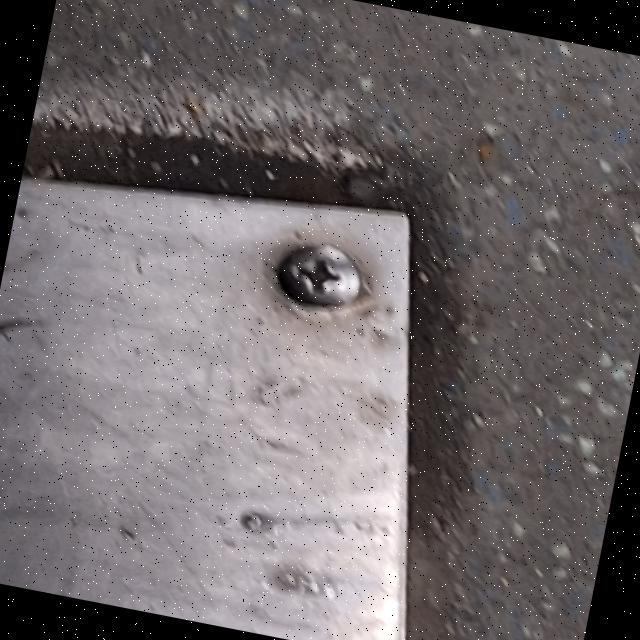Phillips: (258, 228, 389, 329)
